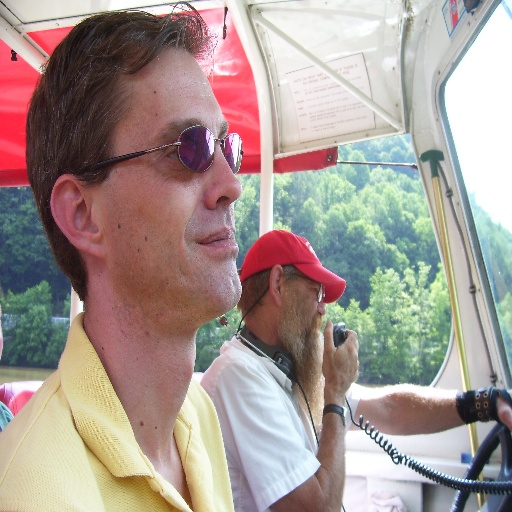hand: (308, 316, 358, 421), (495, 389, 511, 433)
